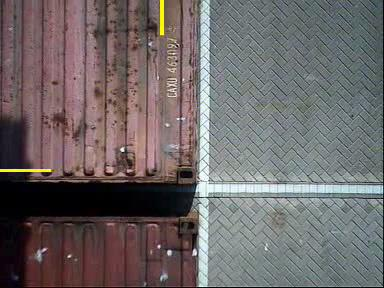groundmarker_2: (201, 12, 240, 72), (203, 158, 242, 217)
